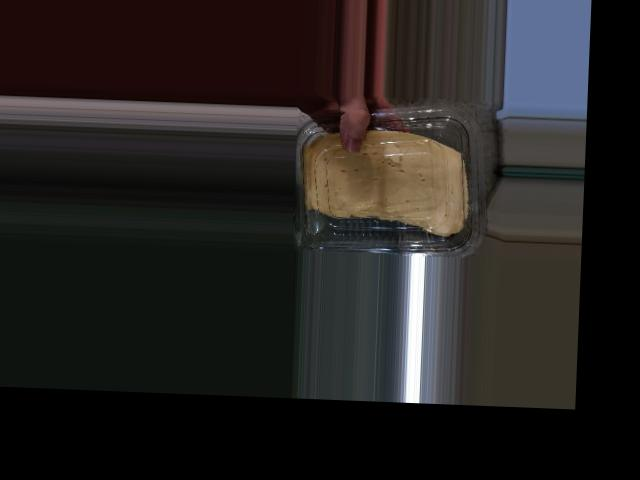cheese: (290, 118, 489, 258)
